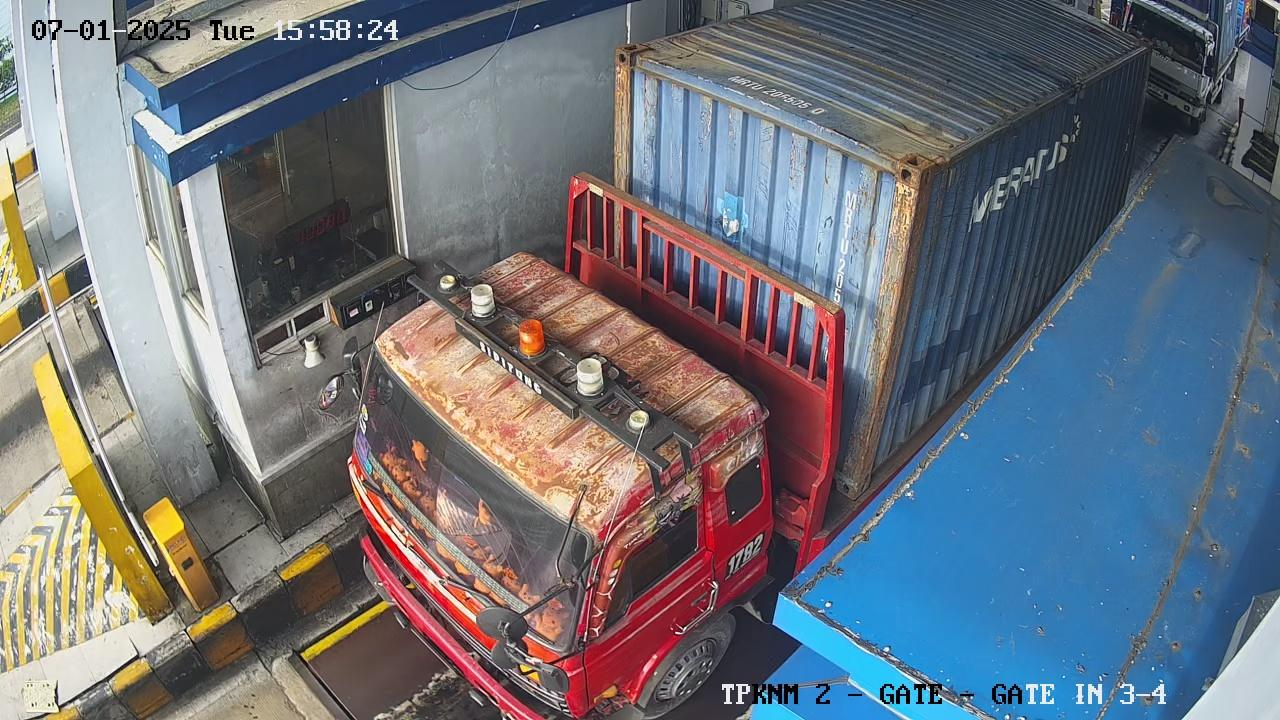Container_ID: (726, 74, 827, 123)
Container_ID_Vertikal: (829, 158, 867, 308)
truck_id: (724, 527, 766, 576)
